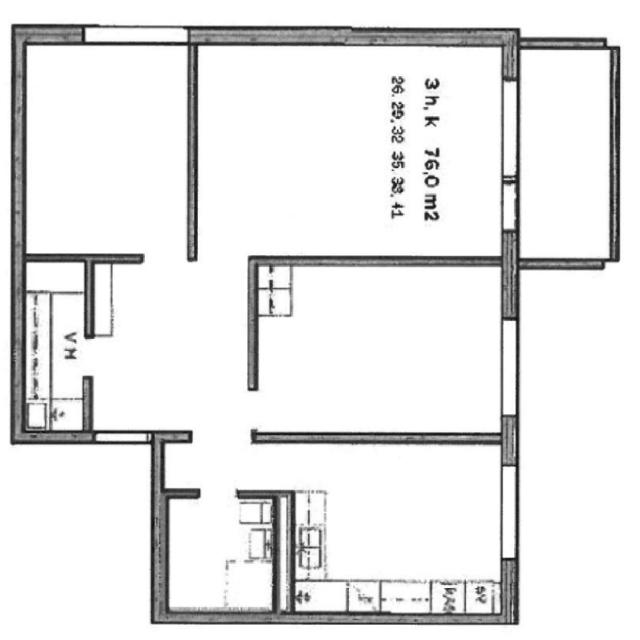window: (84, 18, 190, 42), (497, 412, 522, 470), (193, 481, 241, 500)
zone: (216, 42, 504, 259), (250, 261, 513, 442), (292, 442, 516, 617), (20, 36, 198, 255), (86, 253, 247, 429), (512, 35, 618, 266), (164, 492, 279, 617), (18, 273, 90, 437)
